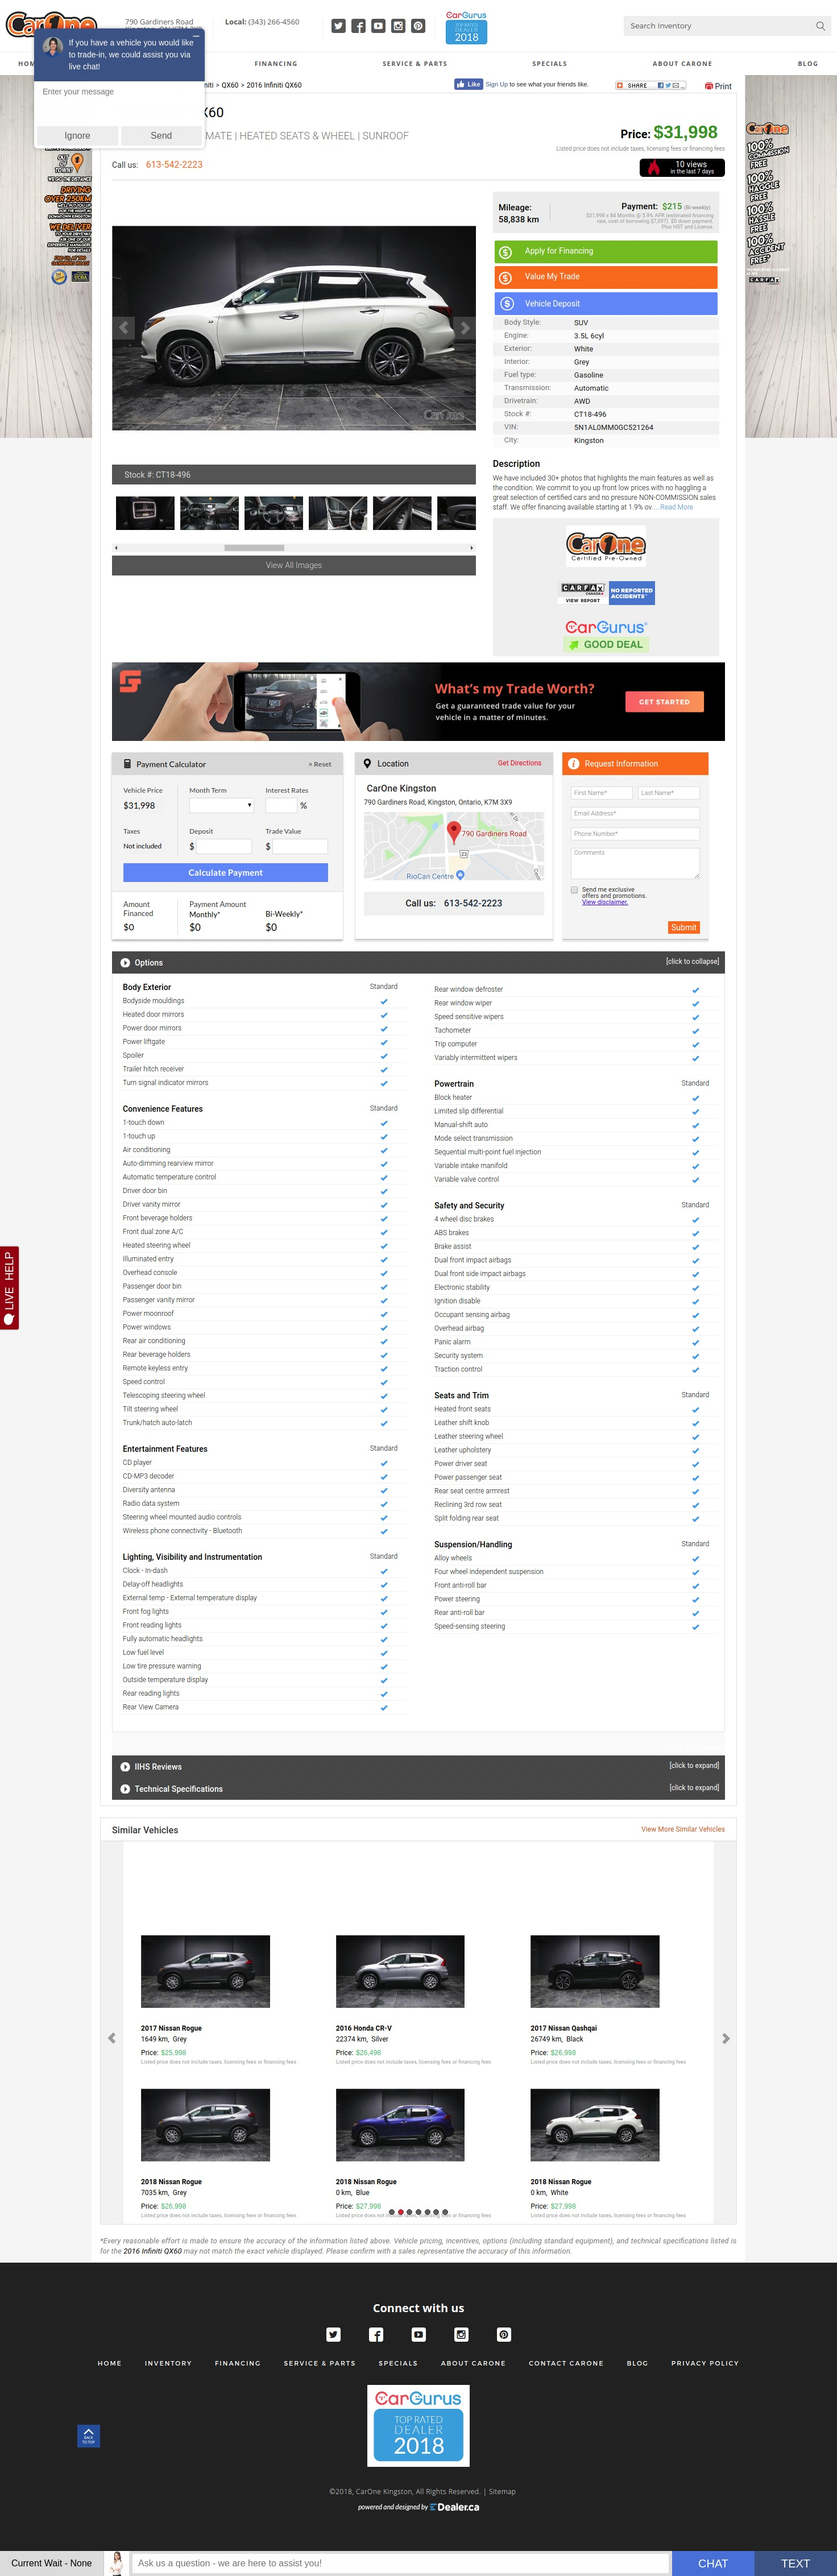car: (469, 545, 474, 550)
